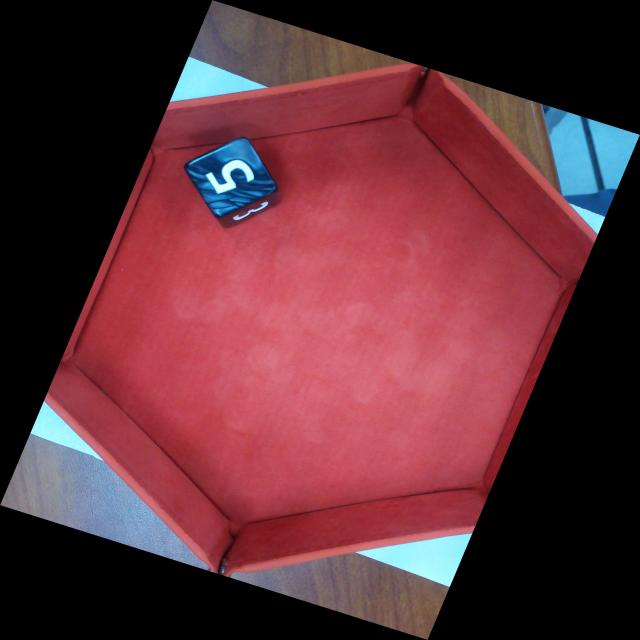dice: (180, 137, 281, 220)
